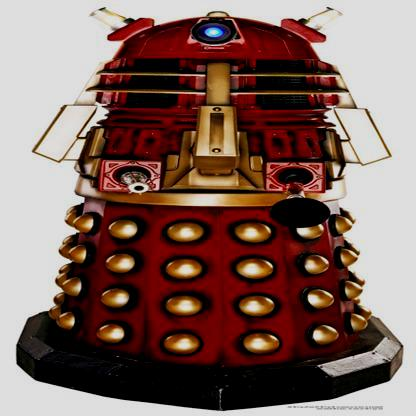dalek: (2, 2, 408, 410)
